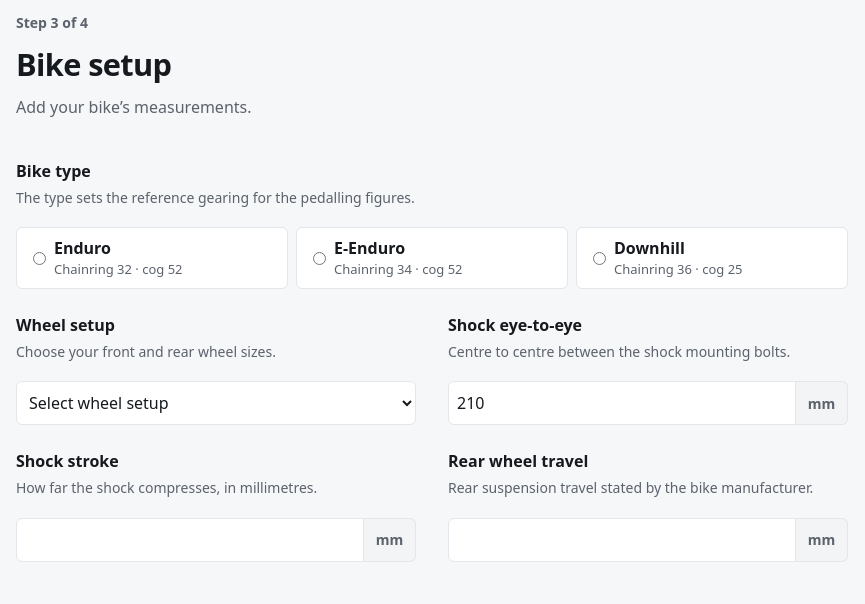
Test: offers exactly three explicit wheel choices and keeps the other parameters
Select "Mullet — 29″ front / 27.5″ rear" in the dropdown labelled "Wheel setup" at (216, 403), box [16,381,416,425]
Leave the dropdown labelled "Wheel setup", box [16,381,416,425]
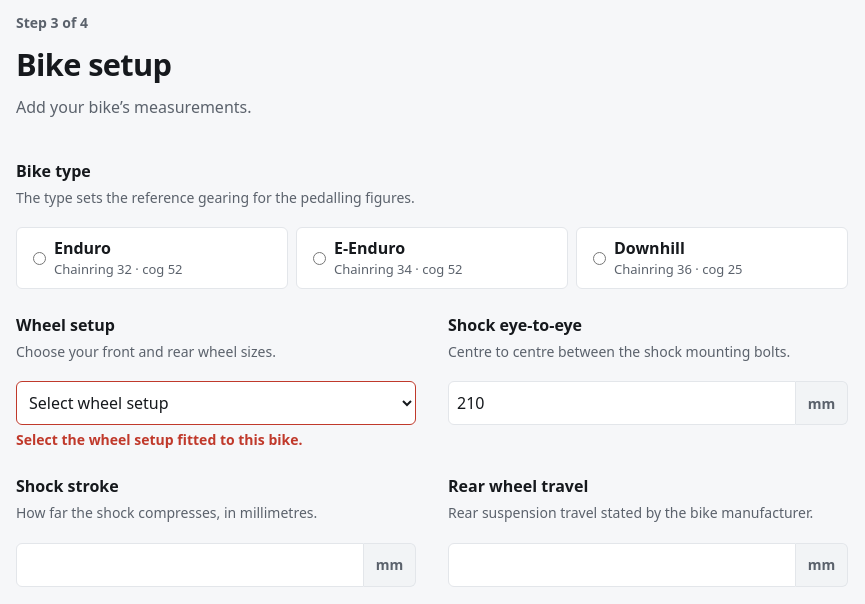
Result: the message shows "Select the wheel setup" at [16,430,302,449]
